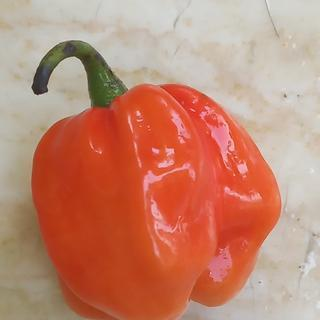Grade-B: (24, 78, 282, 316)
